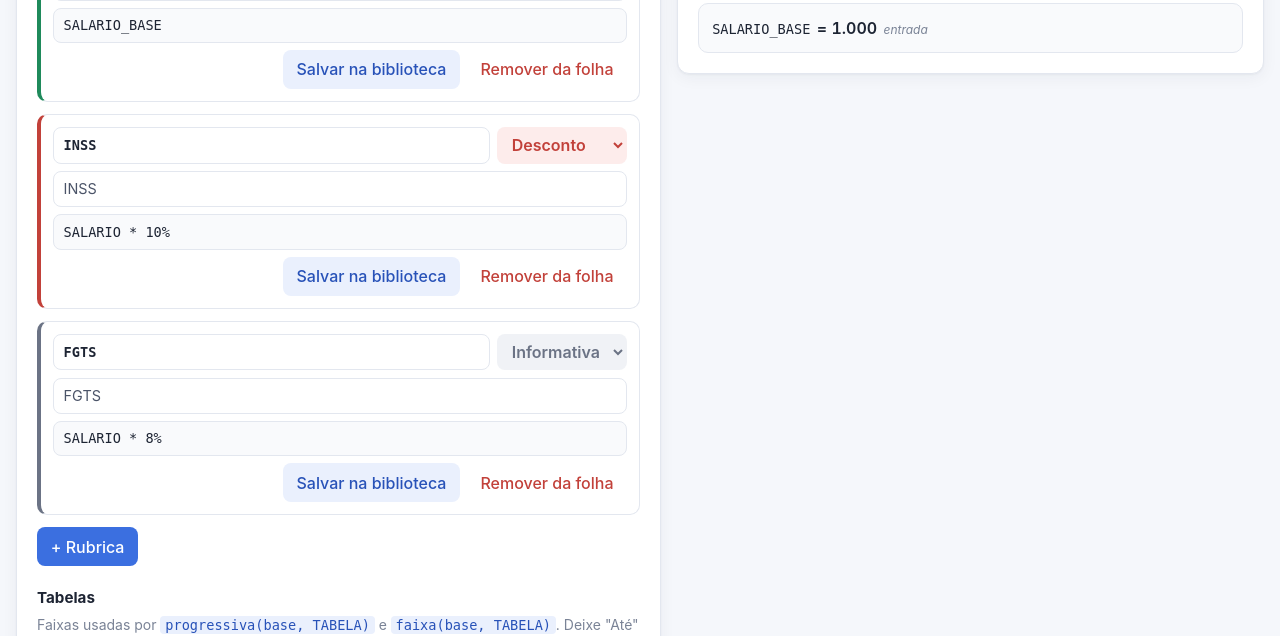
Test case: App › saves to the library, brings items back and deletes them
(page scrolled)
Click the button with aria-label "Salvar INSS na biblioteca" at (371, 276), box x1=283 y1=257 x2=460 y2=296
(page scrolled)
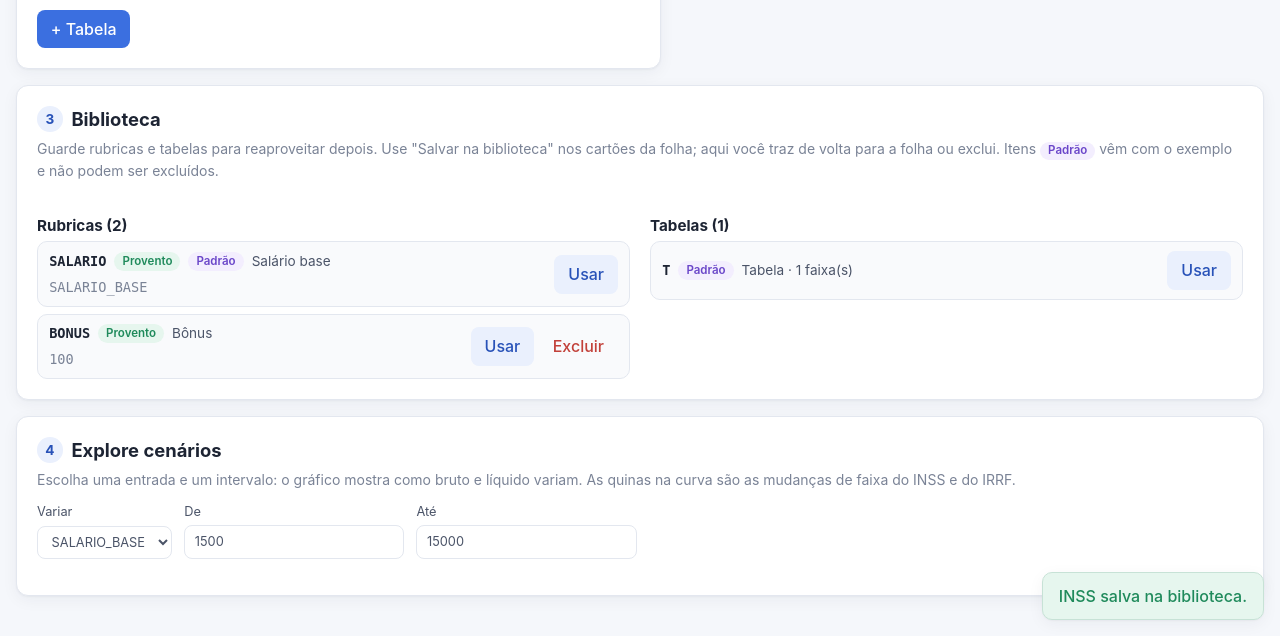
Check: the text "INSS salva na biblioteca." is shown, box x1=1042 y1=572 x2=1264 y2=620
Click the button with aria-label "Usar rubrica BONUS" at (502, 346), box x1=471 y1=327 x2=534 y2=366
(page scrolled)
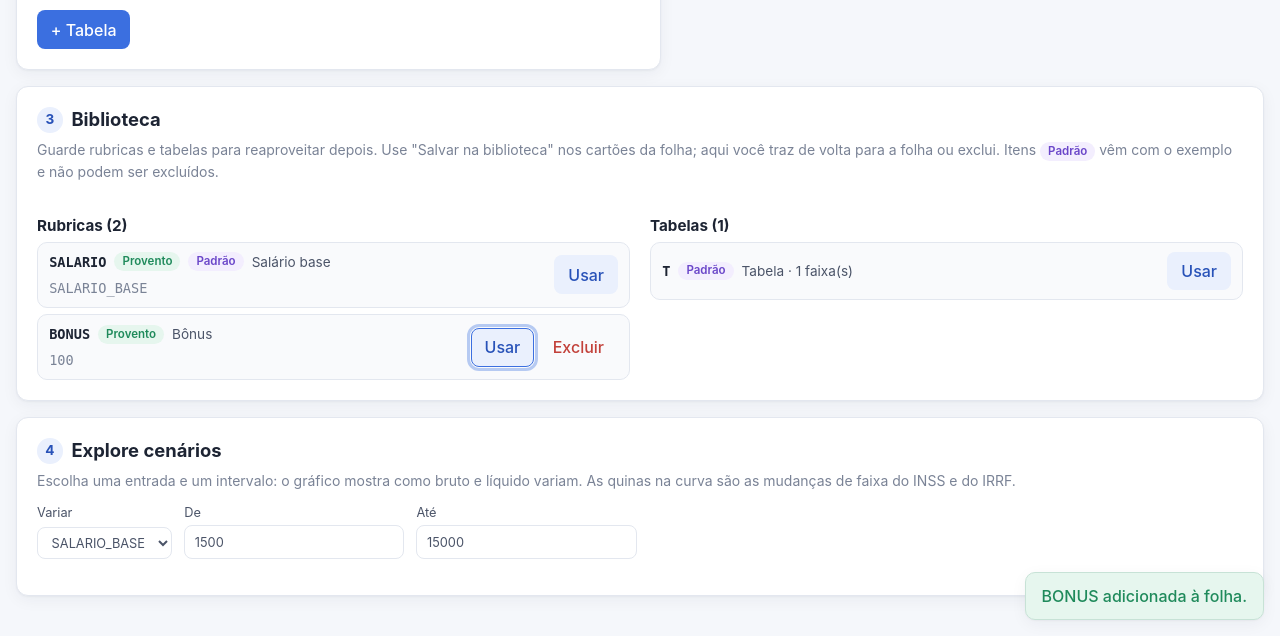
Click the button with aria-label "Excluir rubrica BONUS" at (578, 347), box x1=539 y1=328 x2=618 y2=367
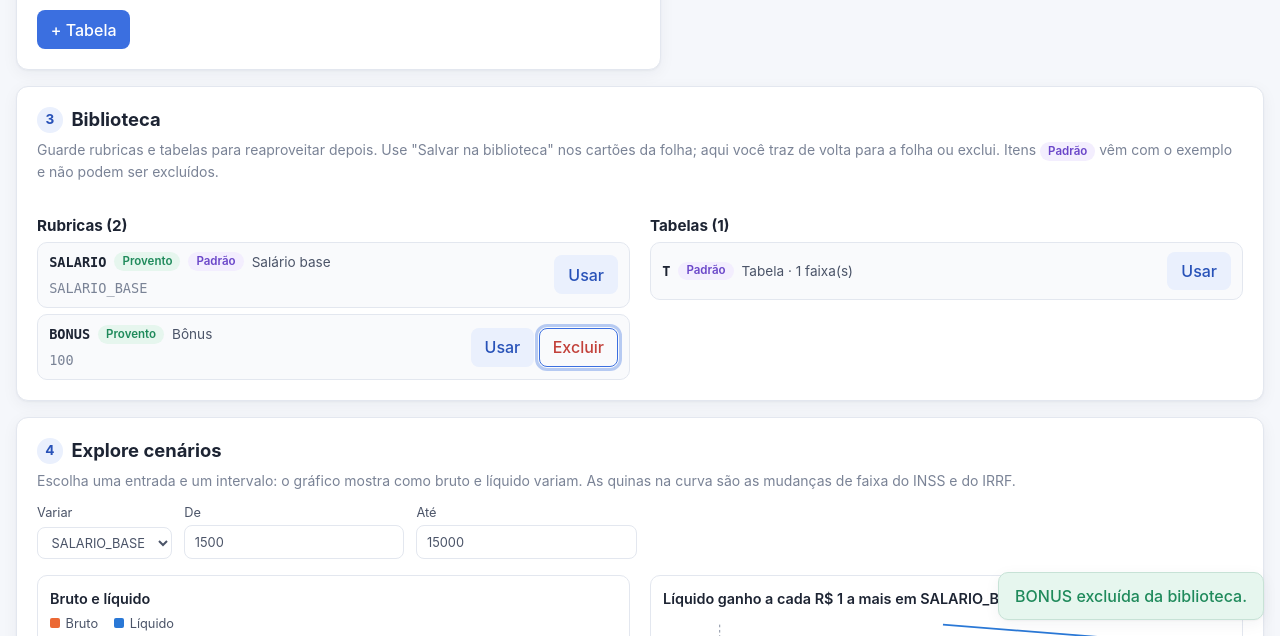
Check: the text "BONUS excluída da biblioteca." is shown, box x1=998 y1=572 x2=1264 y2=620
